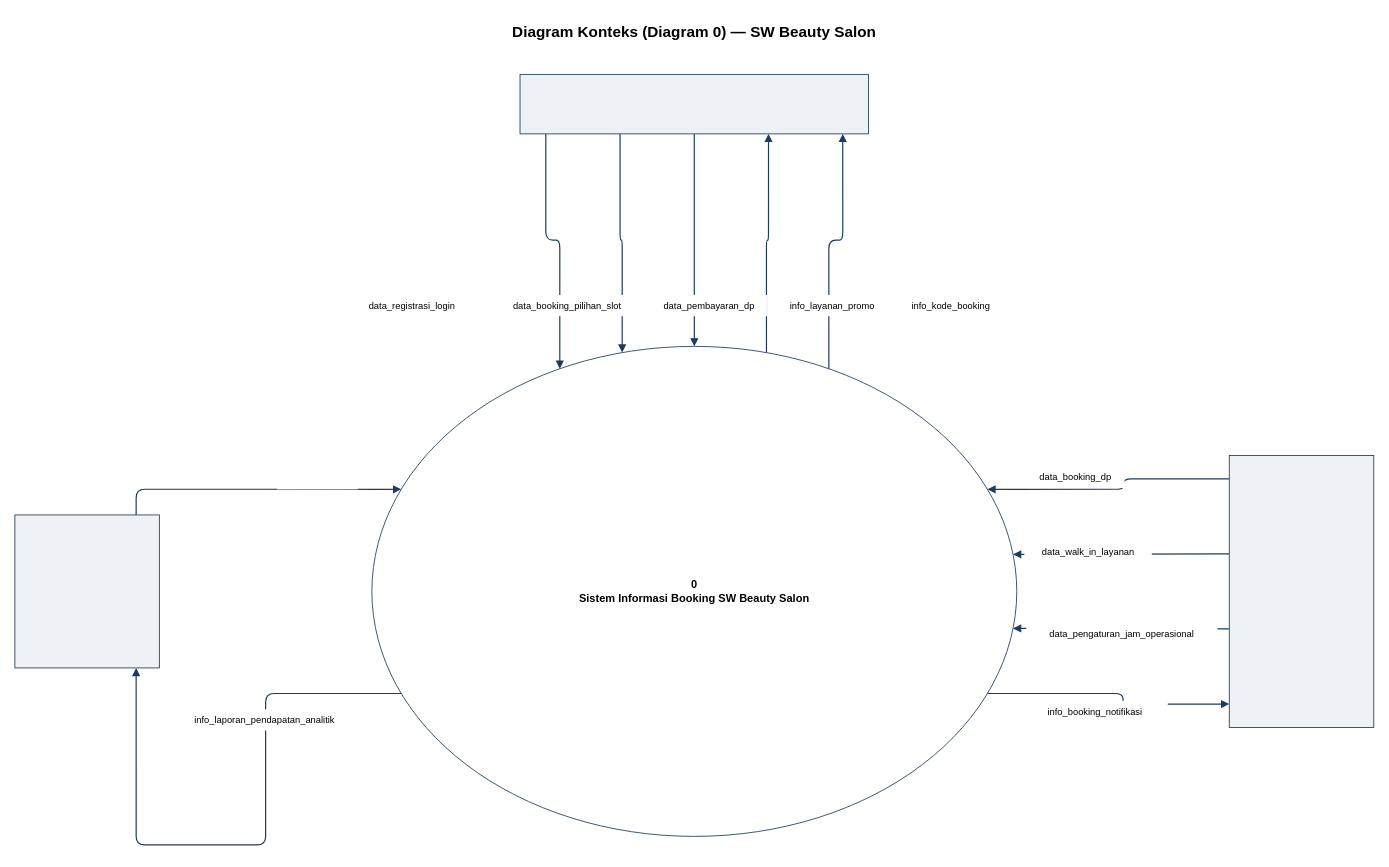
Some shapes in this 1389 by 867 pixel diagram are drawn without their labels. Here are the shapes that lost their labels. From the top down, the centre of each, then its label:
At [694,104]: "Pelanggan".
At [317,478]: "data_laporan".
At [86,591]: "Pemilik".
At [1301,591]: "Admin".
